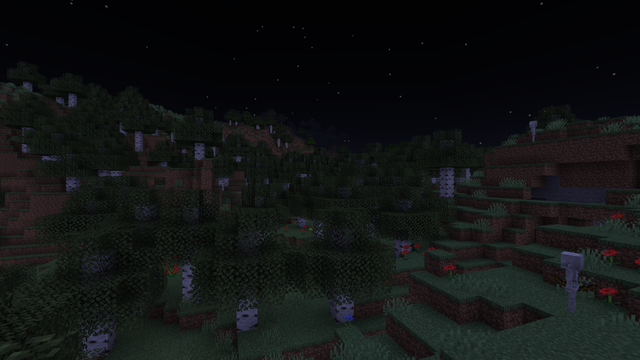squelettes: (556, 251, 587, 315), (527, 120, 538, 137)
